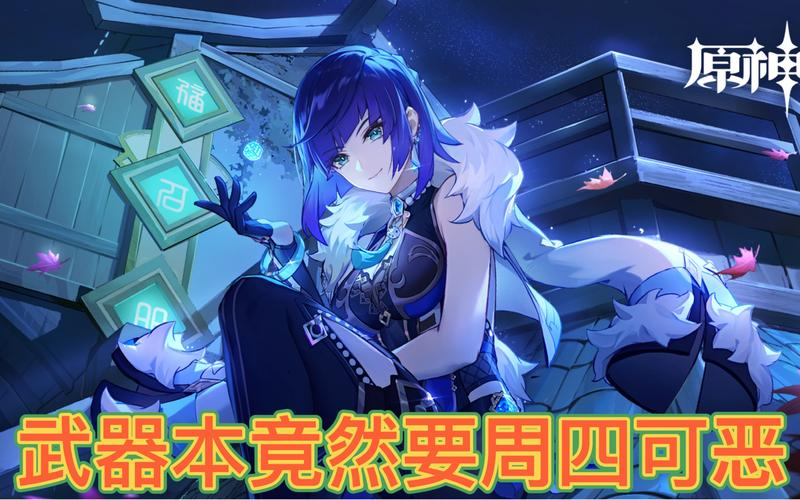夜兰: (191, 45, 522, 500)
